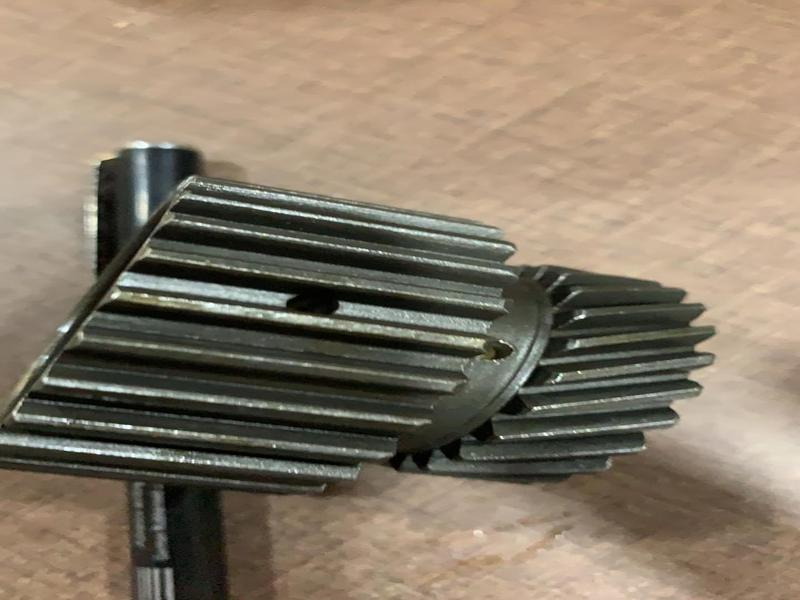engine gear alfa: (16, 132, 751, 564)
